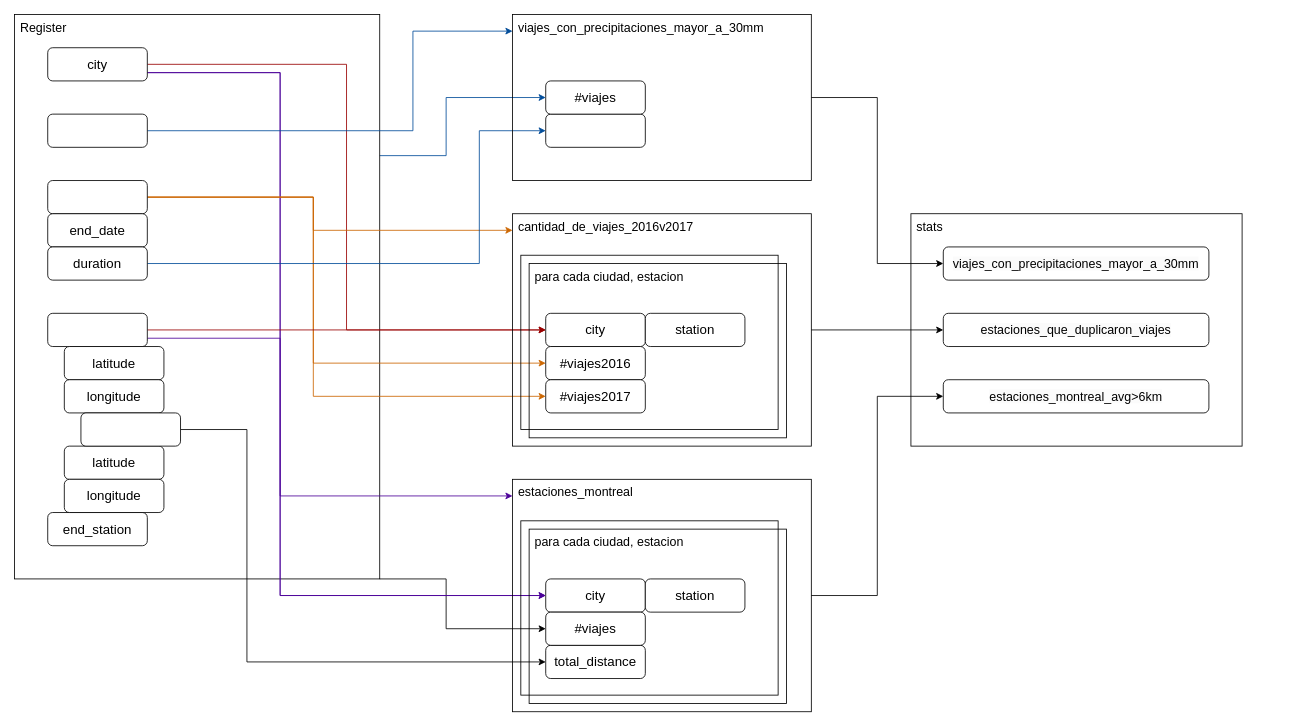
This 1291x726 diagram has some shape labels left out. The shapes that lost their labels are listed below. From the top down, each one's centre as x and y in pixels, then its label:
the point at 97,130: prec_tot
the point at 595,130: duracion_total
the point at 97,197: start_date
the point at 97,329: start_station
the point at 130,429: distance
